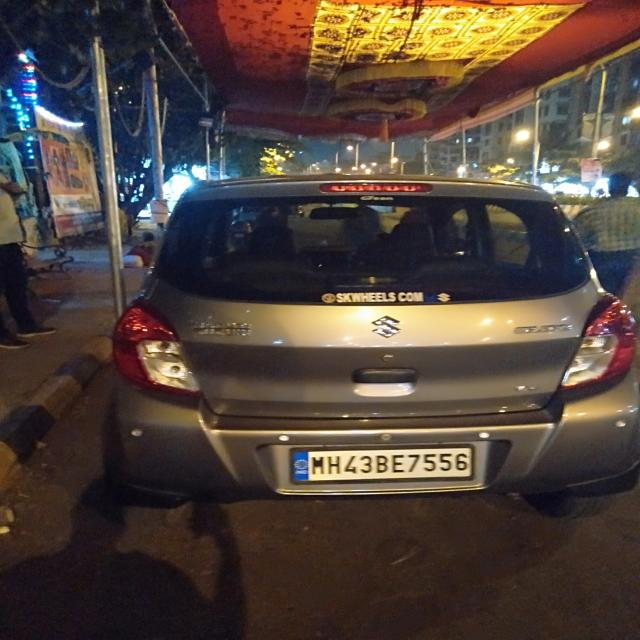Number-Plate: (298, 448, 475, 480)
